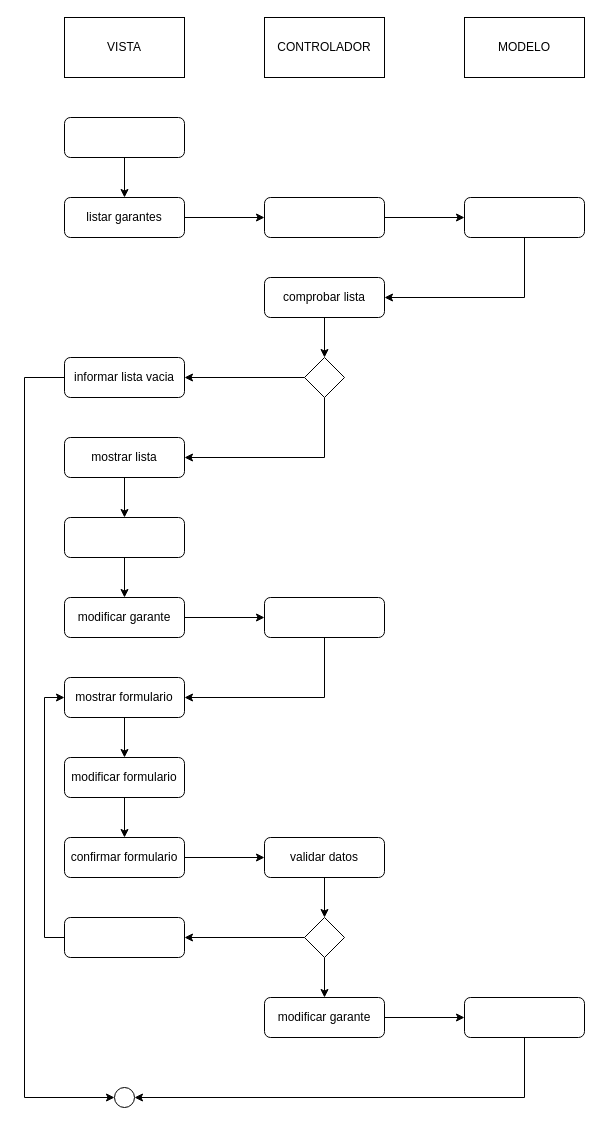
The diagram is 602 pixels wide and 1125 high, and some of its shapes have lost their labels. The shapes that lost their labels are listed below. From the top down, each one's box as (x1, y1, x2, y2) in pixels, then its label:
(64, 116, 184, 158): vista garantes
(264, 196, 384, 238): recuperar lista garantes
(464, 196, 584, 238): recuperar garantes
(64, 516, 184, 558): seleccionar garante
(264, 596, 384, 638): recuperar datos de garante
(64, 916, 184, 958): informar error
(464, 996, 584, 1038): modificar tabla garantes
